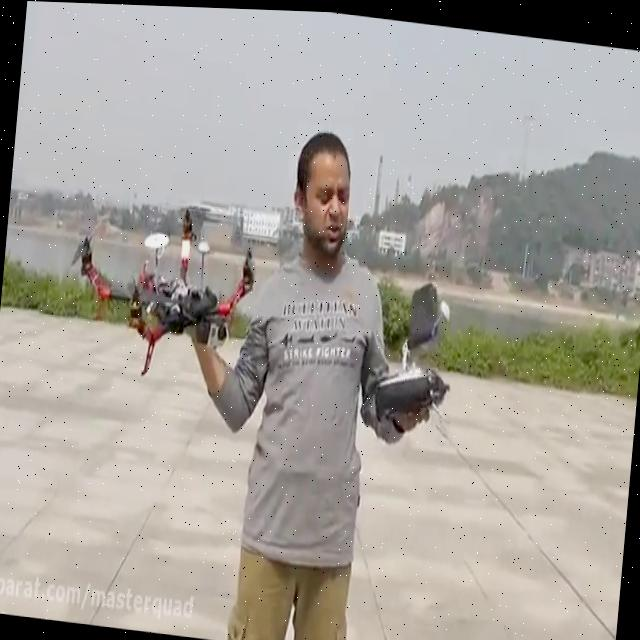drone: (56, 184, 268, 393)
